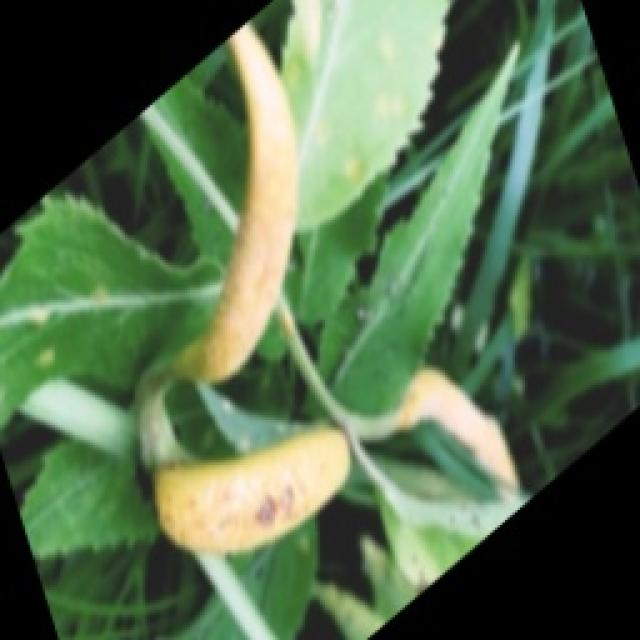Elderberry_rust: (165, 20, 300, 385), (150, 423, 352, 555)
